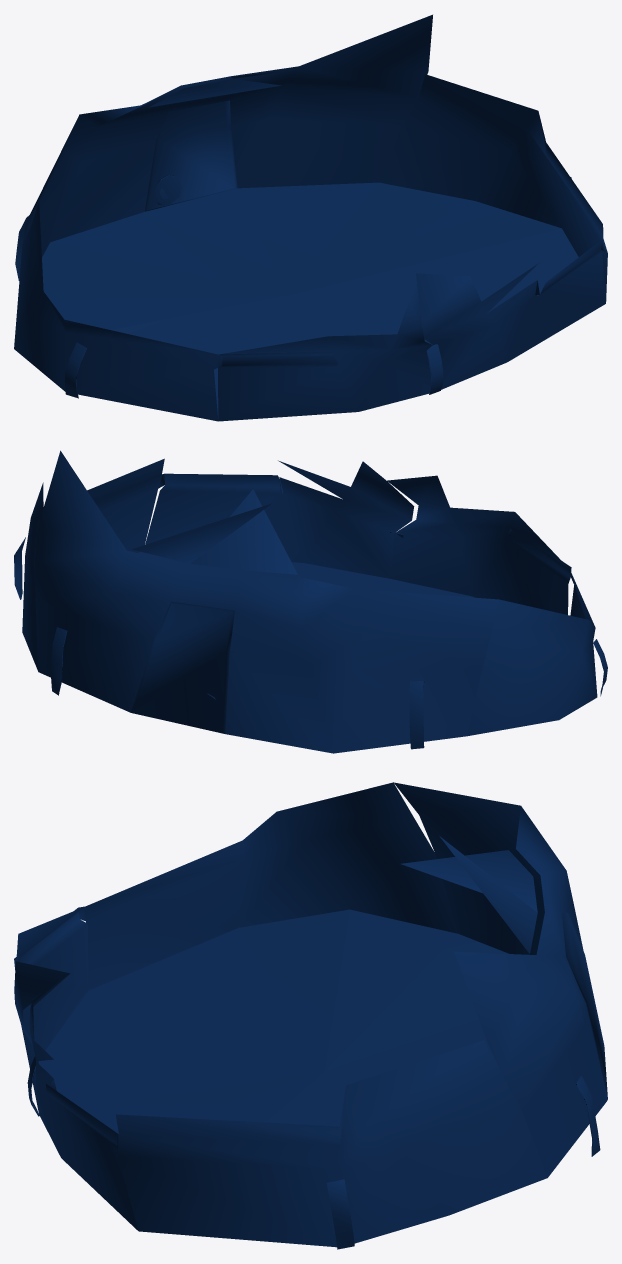
Rendered from hip.glb.
3 views of the same model, one above another, from view 1: azimuth 30°, elevation 25°; view 2: azimuth 150°, elevation 25°; view 3: azimuth 270°, elevation 25° (orthographic). The views are drawn at different scales.
Visible parts, largest first — view 1: trousers-navy_HIP; view 2: trousers-navy_HIP; view 3: trousers-navy_HIP.
Part boxes in pixels (box(x1,y1,x2,y2)): trousers-navy_HIP: box(14, 14, 607, 421); trousers-navy_HIP: box(14, 450, 607, 753); trousers-navy_HIP: box(14, 782, 607, 1249).
Size of the model in its own units: 0.4339 by 0.1591 by 0.3264.
Materials: 1 (1 with a texture image).
